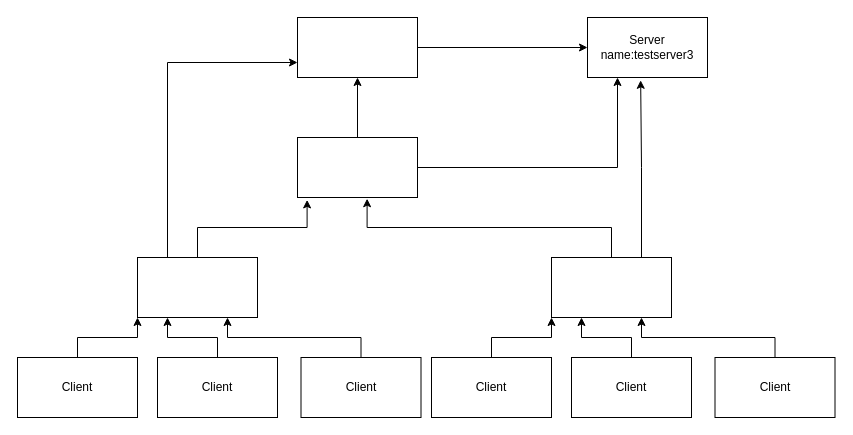
Some shapes in this 853 by 435 pixel diagram are drawn without their labels. The centre of each missing label's shape, as x and y in pixels:
Server name:localserver1: the point at 197,287
Server name:localserver2: the point at 611,287
Server name:testserver1: the point at 357,167
Server name:testserver2: the point at 357,47
